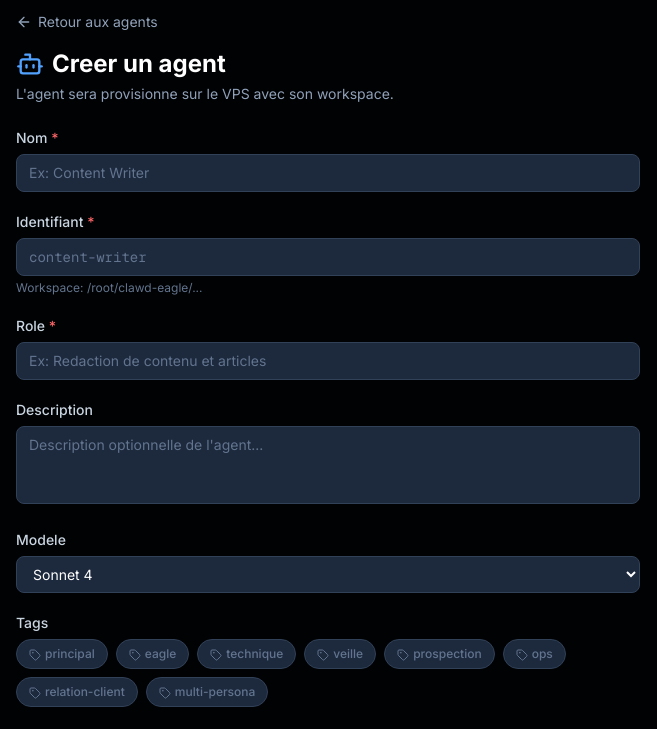
Test: NewAgentPage › auto-generates slug from name
The image size is (657, 729).
Type "Mon Super Agent" into the field with placeholder "Ex: Content Writer" at (328, 173), box x1=16 y1=154 x2=640 y2=192
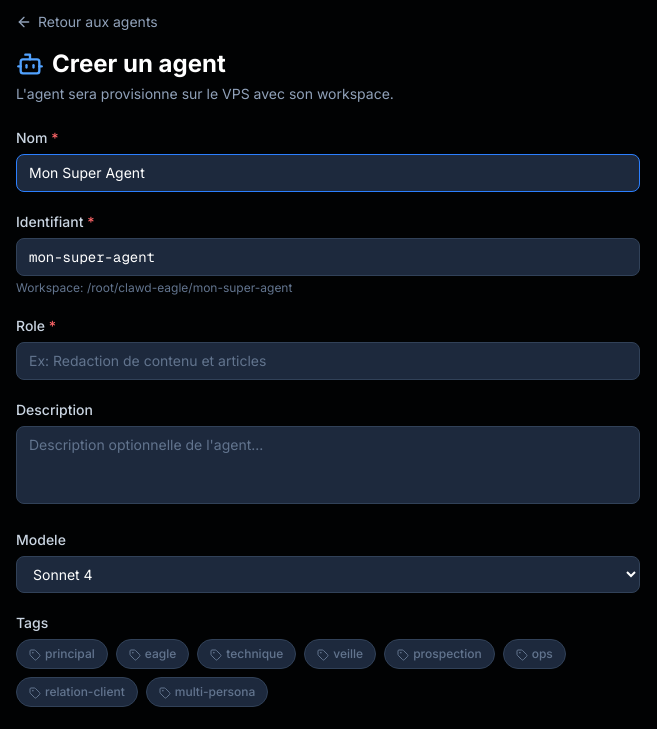
Check: the field with placeholder "content-writer" holds "mon-super-agent", box x1=16 y1=238 x2=640 y2=276
